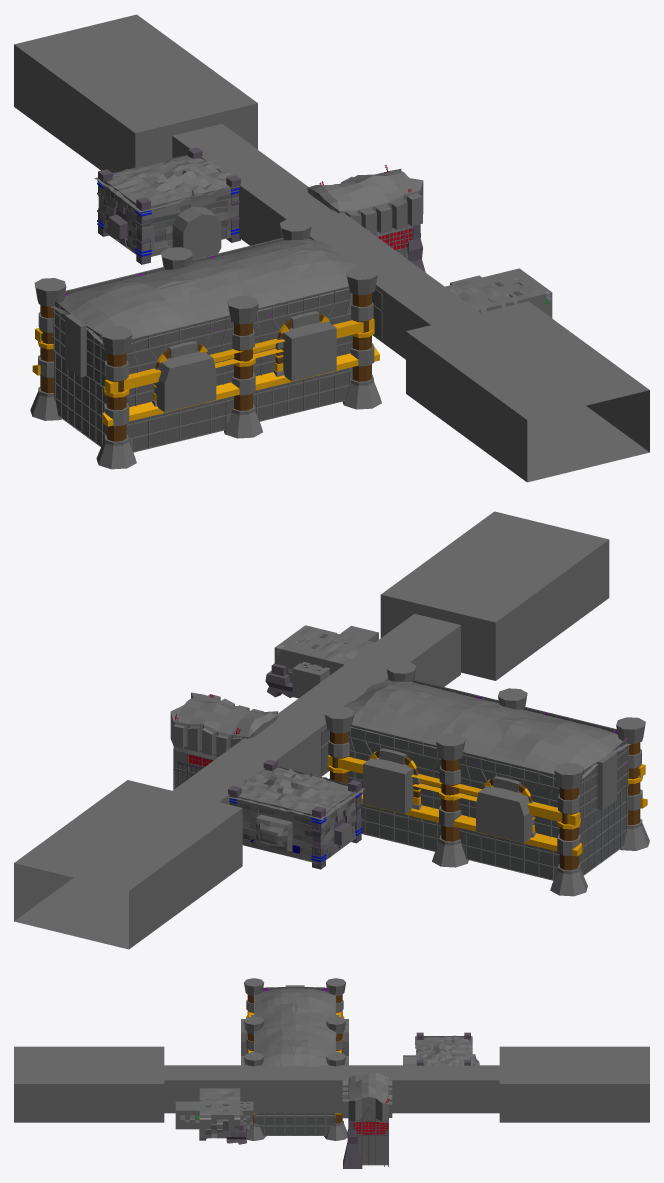
File: Elysium_applied_4.fbx
3 views of the same model, one above another, from view 1: azimuth 30°, elevation 25°; view 2: azimuth 150°, elevation 25°; view 3: azimuth 270°, elevation 25° (orthographic). The views are drawn at different scales.
Visible parts, largest first — view 1: oda; view 2: oda; view 3: oda.
Boxes of the visible parts, bbox=[...] form: oda: bbox=[14, 14, 649, 482]; oda: bbox=[14, 511, 649, 949]; oda: bbox=[14, 978, 649, 1168].
Size of the model in its own units: 8859 by 2695 by 18968.
